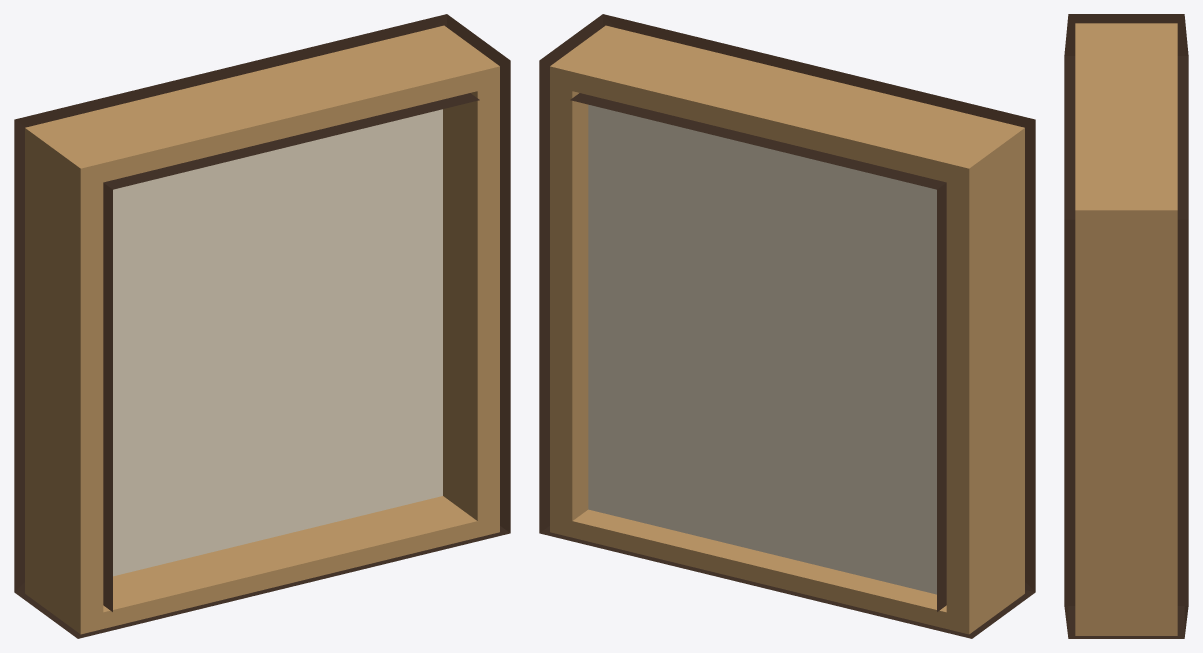
Rendered from atelier-frame.glb.
3 renders of one model, left to right at view 1: azimuth 30°, elevation 25°; view 2: azimuth 150°, elevation 25°; view 3: azimuth 270°, elevation 25°, orthographic. The views are drawn at different scales.
Visible parts, largest first — view 1: atelier-frame, atelier-frame-outline; view 2: atelier-frame, atelier-frame-outline; view 3: atelier-frame, atelier-frame-outline.
Part boxes in pixels (bbox=[...]): atelier-frame: bbox=[25, 25, 499, 634]; atelier-frame-outline: bbox=[14, 14, 510, 638]; atelier-frame: bbox=[550, 25, 1024, 634]; atelier-frame-outline: bbox=[539, 14, 1035, 638]; atelier-frame: bbox=[1075, 23, 1177, 635]; atelier-frame-outline: bbox=[1064, 14, 1188, 638].
Size of the model in its own units: 0.6708 by 0.7044 by 0.1826.
